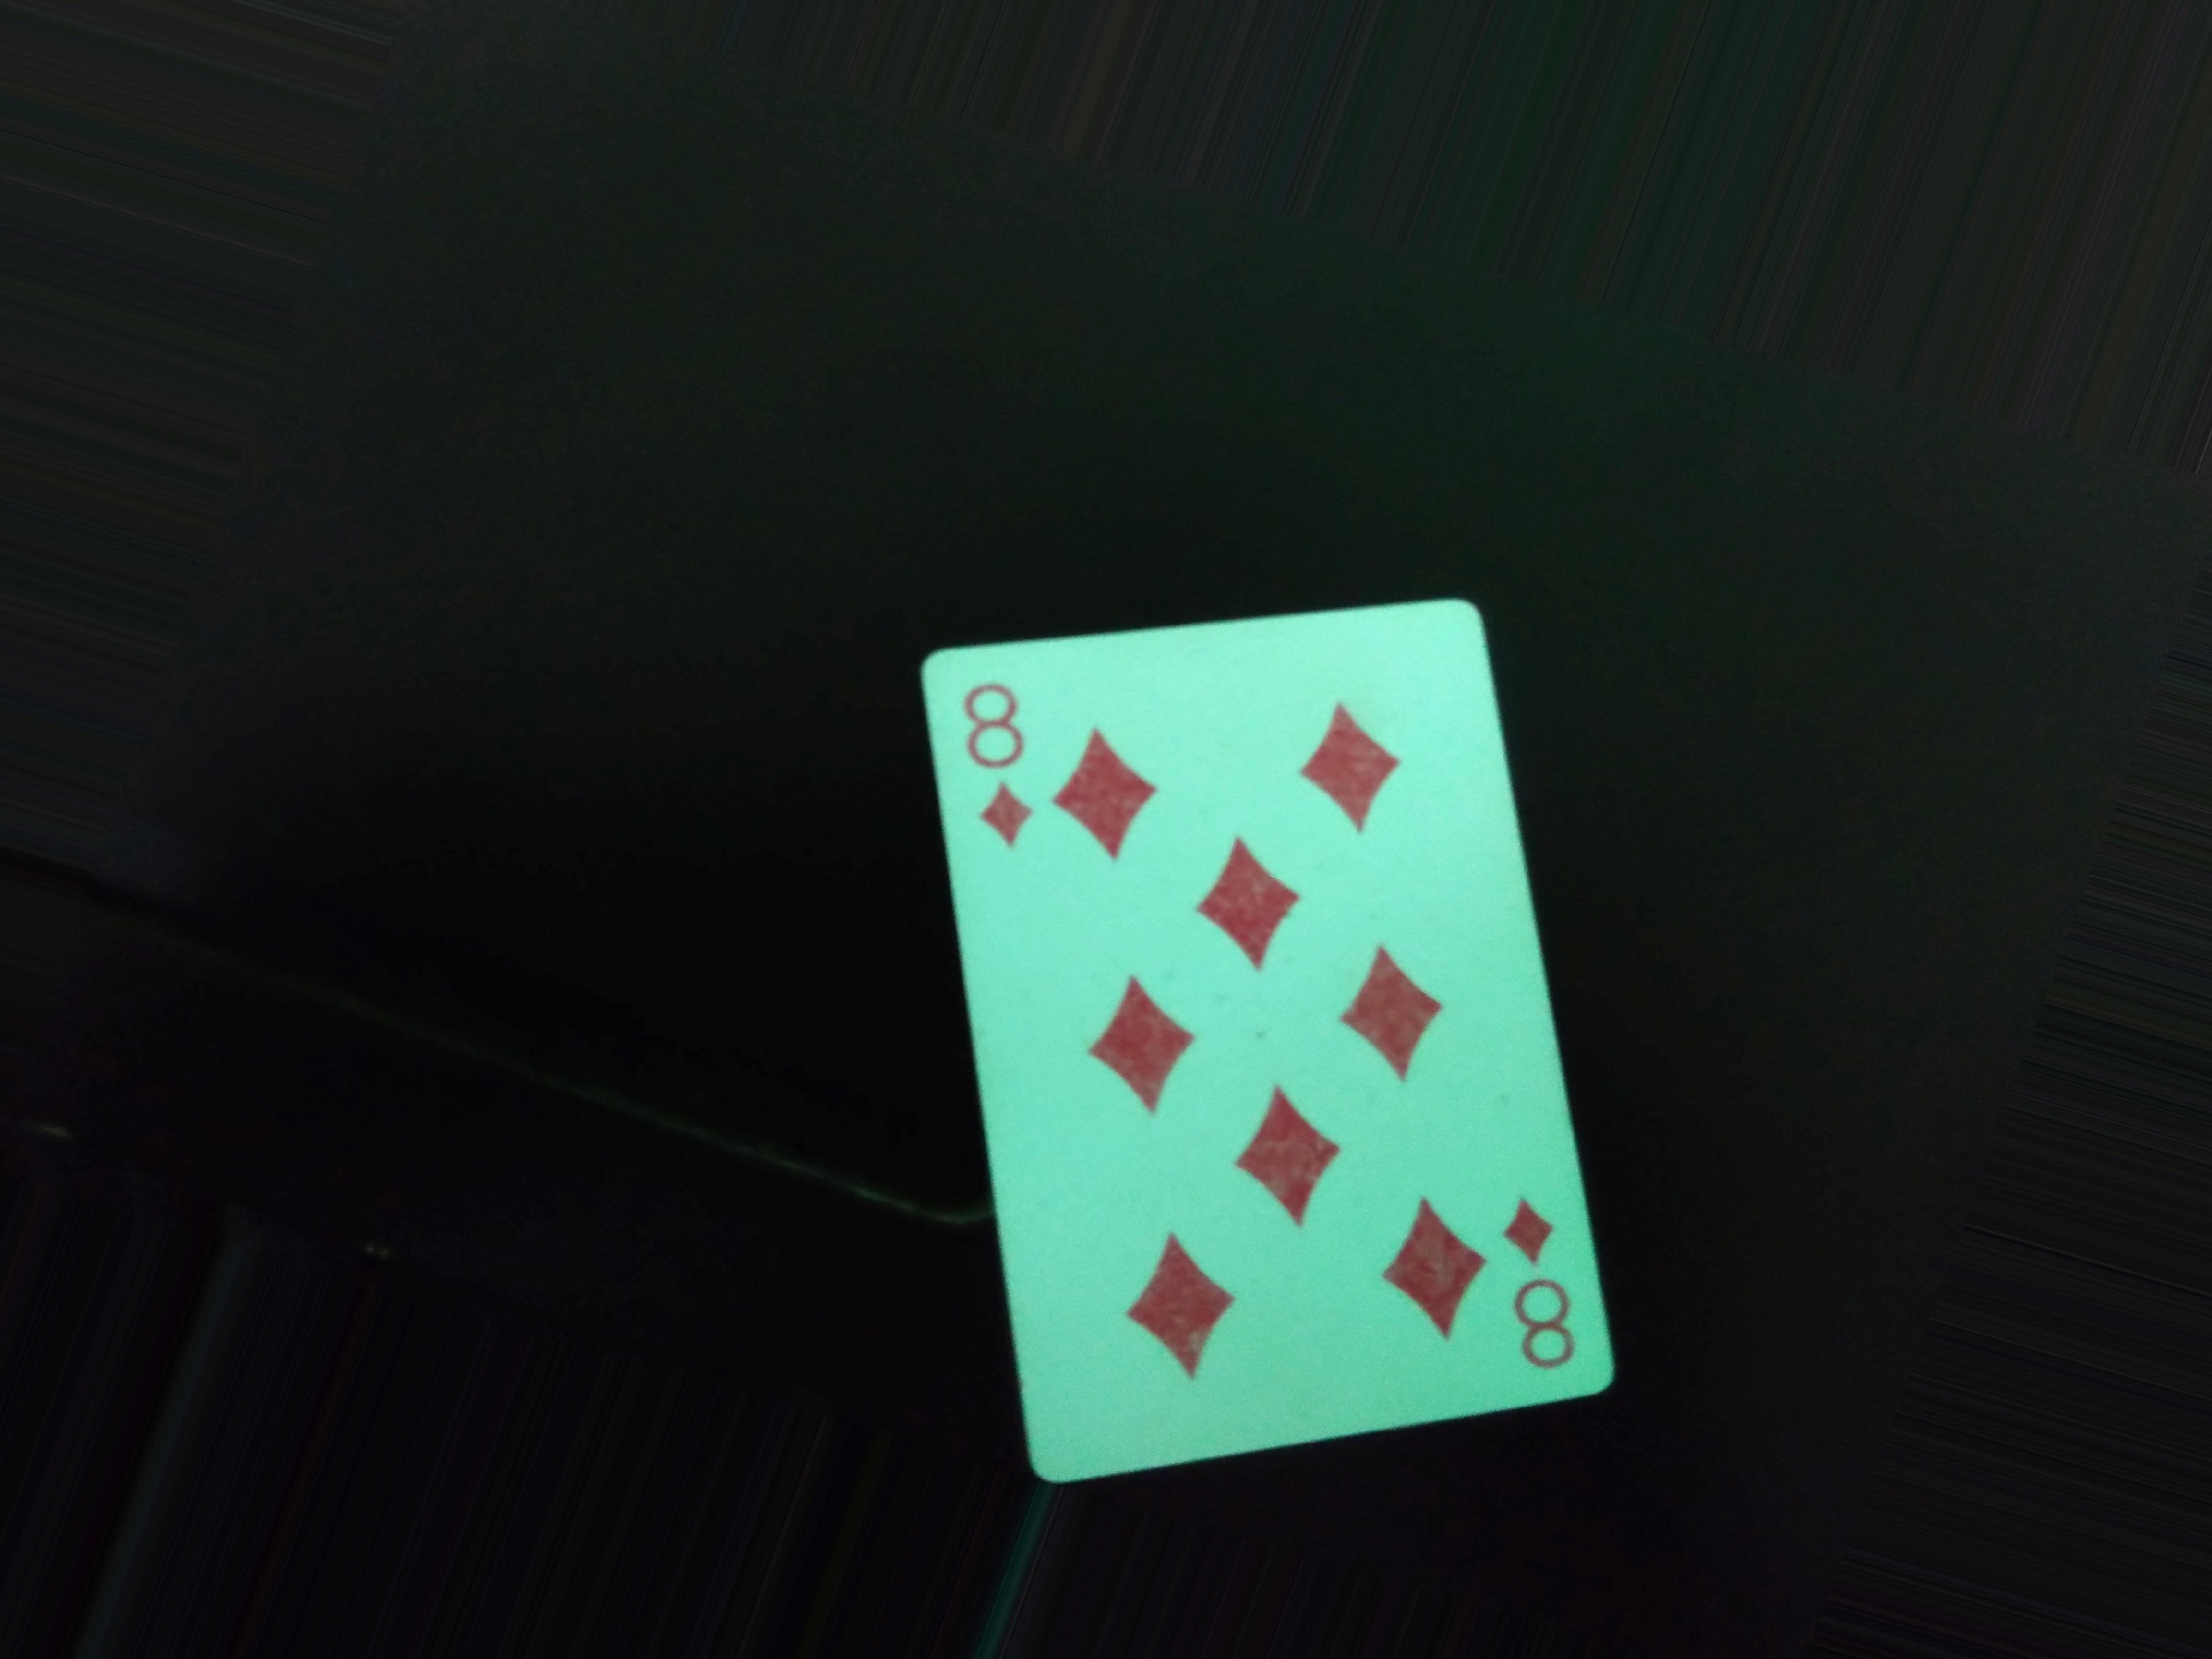8D: (960, 667, 1059, 884)
